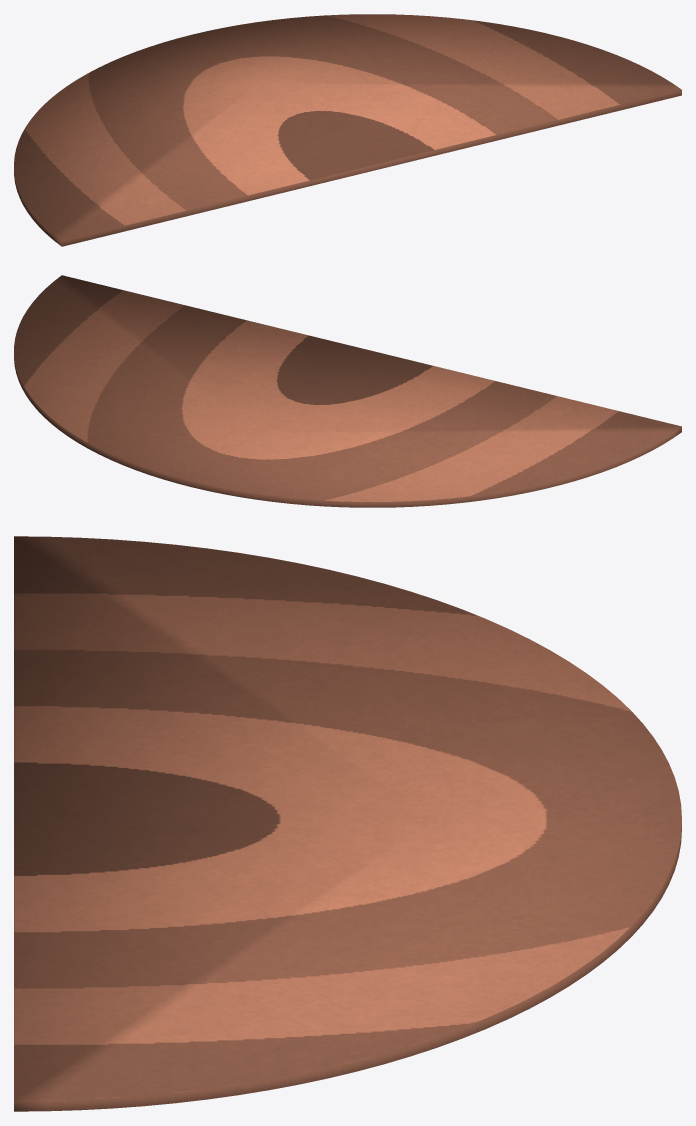
Rendered from rug_arch.glb.
3 views of the same model, one above another, from view 1: azimuth 30°, elevation 25°; view 2: azimuth 150°, elevation 25°; view 3: azimuth 270°, elevation 25° (orthographic). The views are drawn at different scales.
Visible parts, largest first — view 1: model; view 2: model; view 3: model.
Boxes of the visible parts, box(x1,y1,x2,y2) form: model: box(14, 14, 681, 246); model: box(14, 275, 681, 507); model: box(14, 536, 681, 1111).
Size of the model in its own units: 1.7 by 0.015 by 0.85.
Materials: 1 (1 with a texture image).
